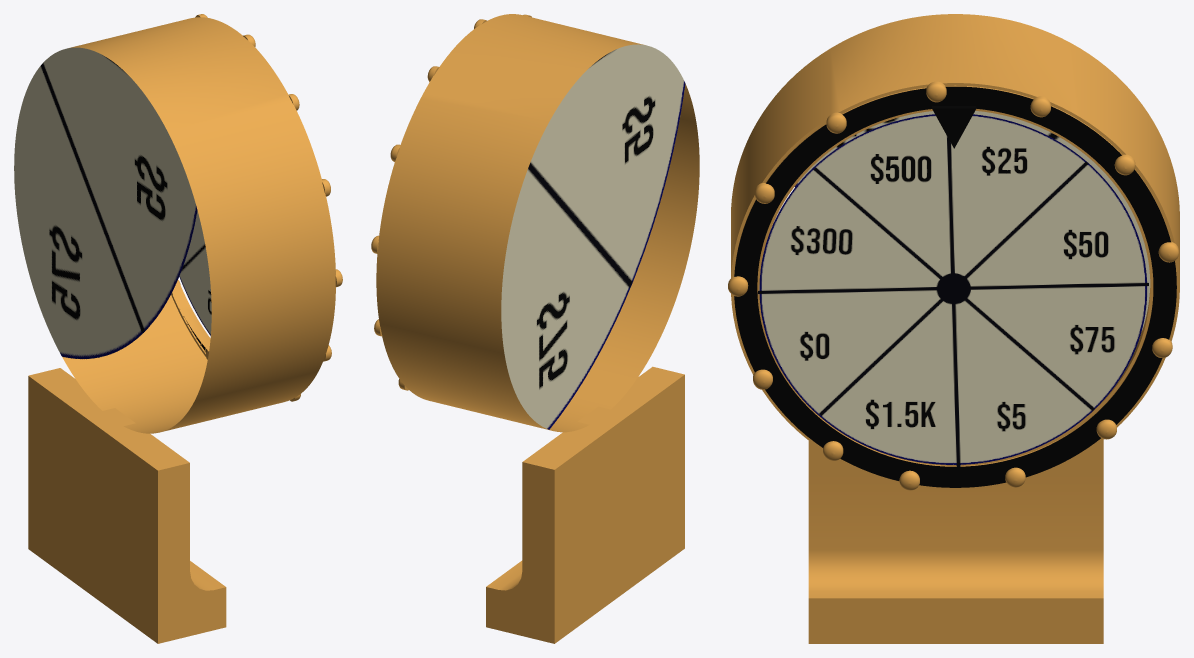
File: Wheel_NoTexture.fbx
The picture shows the model from 3 angles, left to right: view 1: azimuth 30°, elevation 25°; view 2: azimuth 150°, elevation 25°; view 3: azimuth 270°, elevation 25°; orthographic projection. The views are drawn at different scales.
Parts seen in each view (by area): view 1: Body, Circle.001, Balls; view 2: Body, Balls; view 3: Body, Circle.001, Balls, Triangle.
Boxes of the visible parts, x1,y1,x2,y2 form: Body: (14, 17, 335, 643); Circle.001: (179, 210, 211, 335); Balls: (171, 14, 342, 401); Body: (376, 14, 699, 643); Balls: (371, 14, 531, 390); Body: (731, 14, 1179, 643); Circle.001: (758, 114, 1148, 466); Balls: (728, 81, 1178, 490); Triangle: (932, 106, 976, 148).
Bounding box in the file's own units: 669 × 2225 × 1508.
